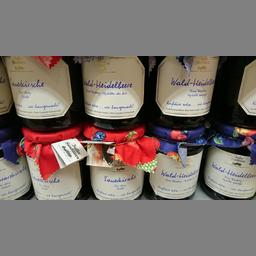jam: (1, 56, 80, 130), (74, 55, 148, 129), (81, 124, 152, 198), (16, 124, 86, 198), (150, 55, 220, 126), (199, 121, 255, 199), (146, 124, 204, 198)
